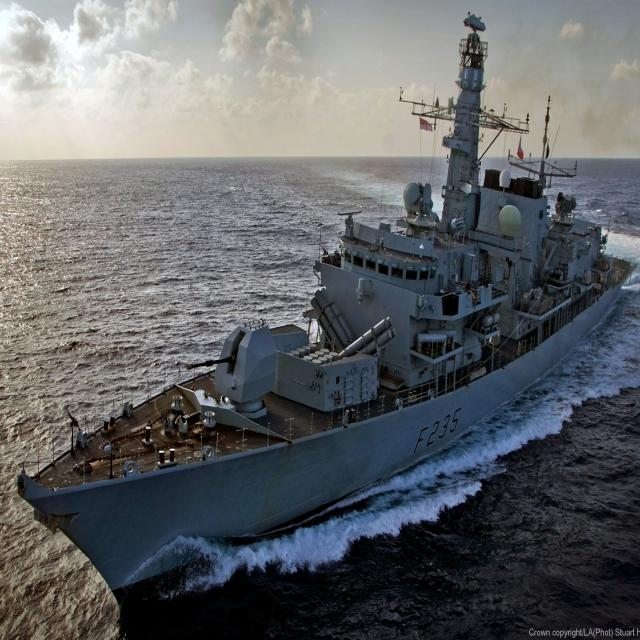Fragata: (1, 1, 443, 620)
